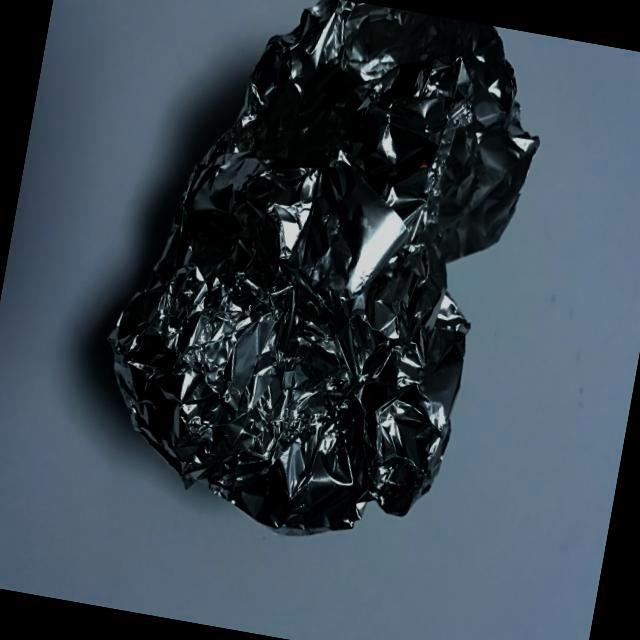metal: (53, 0, 572, 602)
